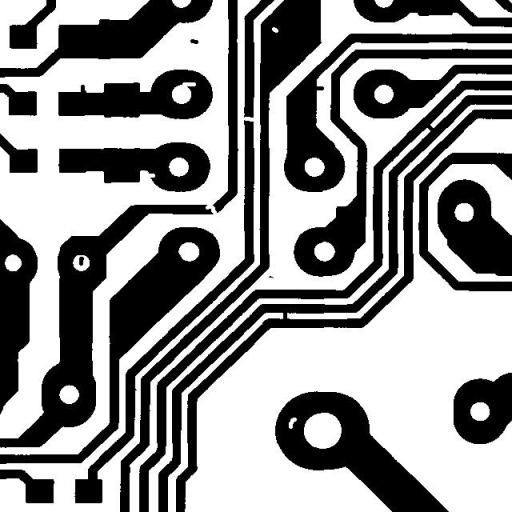copper: (182, 31, 206, 51), (71, 249, 91, 273)
mousebite: (174, 74, 204, 94), (140, 166, 162, 184)
open: (198, 197, 226, 225), (236, 109, 263, 129)
pin-hole: (281, 410, 304, 436), (264, 19, 286, 40)
short: (412, 116, 442, 139), (276, 304, 294, 330)
spur: (72, 77, 94, 102), (306, 78, 332, 98)
